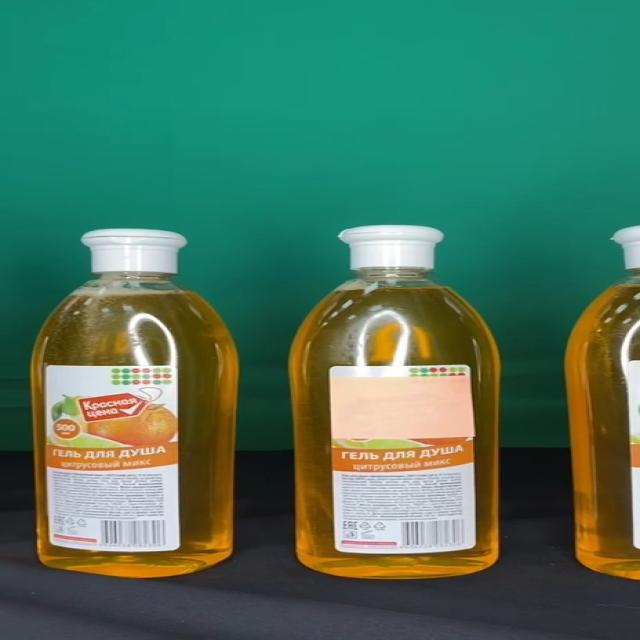Bottle: (291, 226, 502, 578), (33, 229, 239, 577)
Cap: (82, 229, 189, 273), (338, 226, 444, 270)
